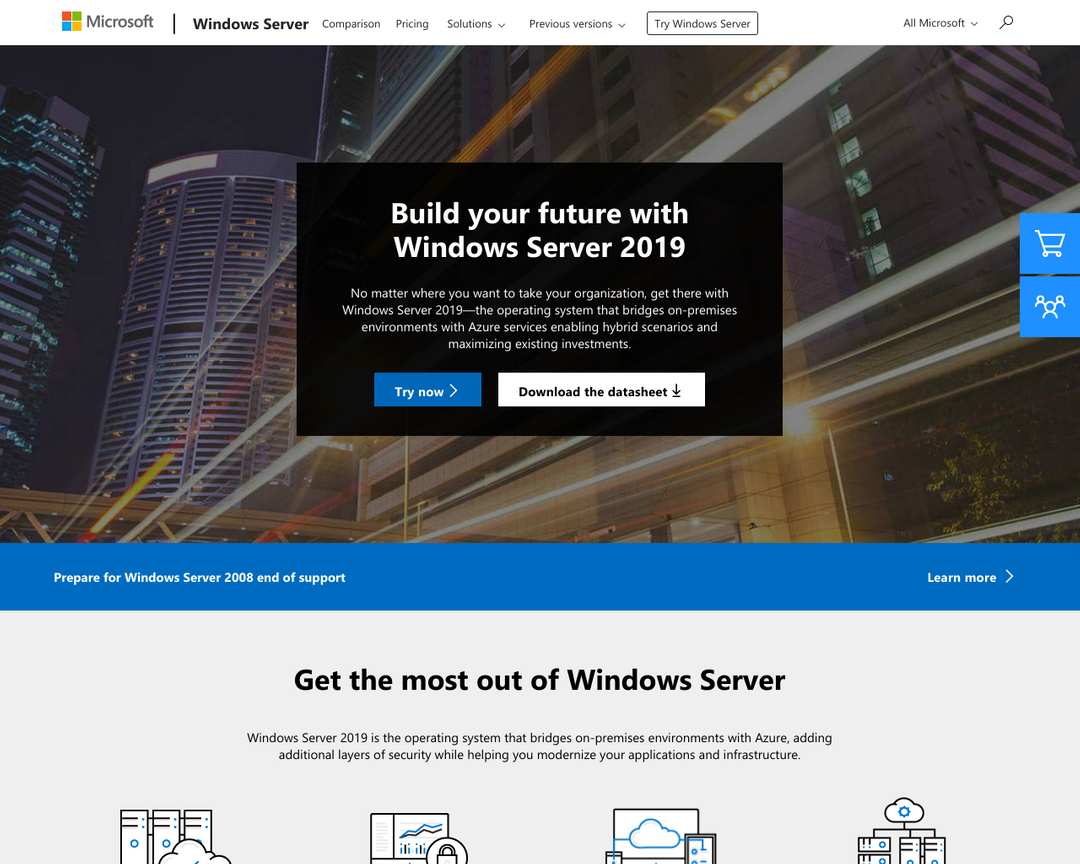Microsoft: (57, 6, 157, 36)
